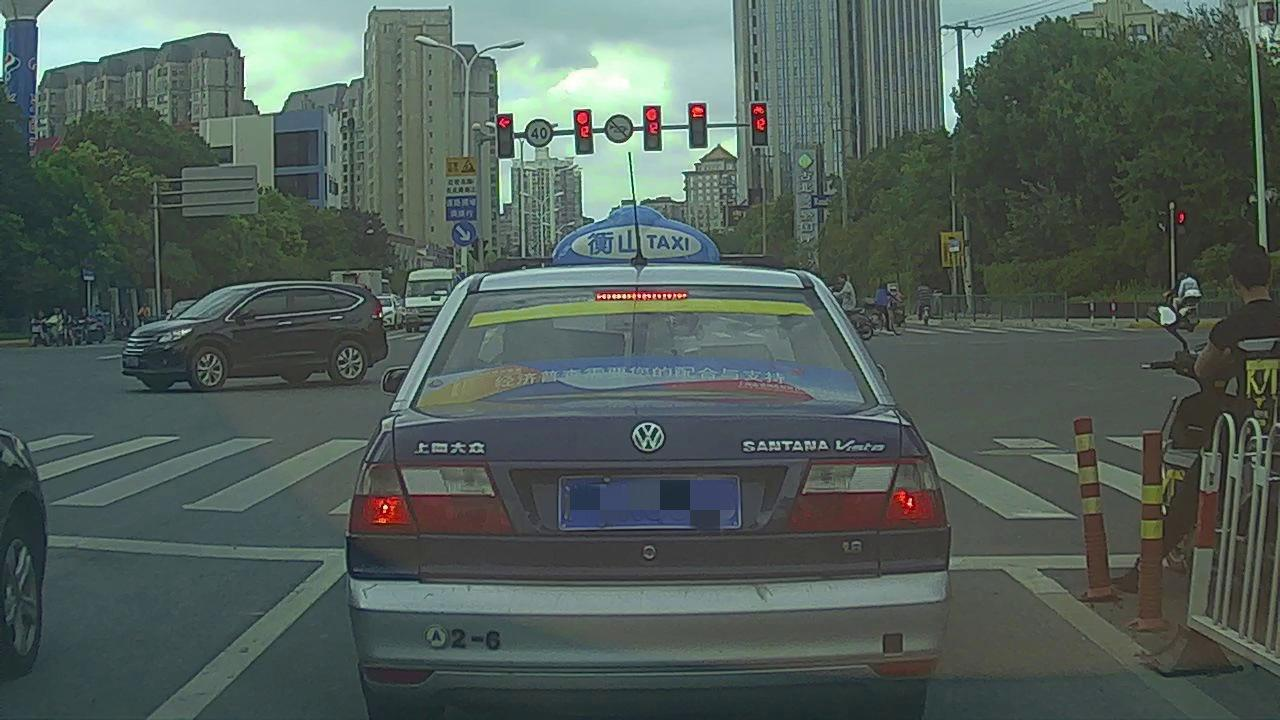traffic_light: (574, 109, 593, 154), (689, 103, 707, 147), (644, 106, 661, 151), (497, 114, 513, 157), (752, 103, 767, 146)
